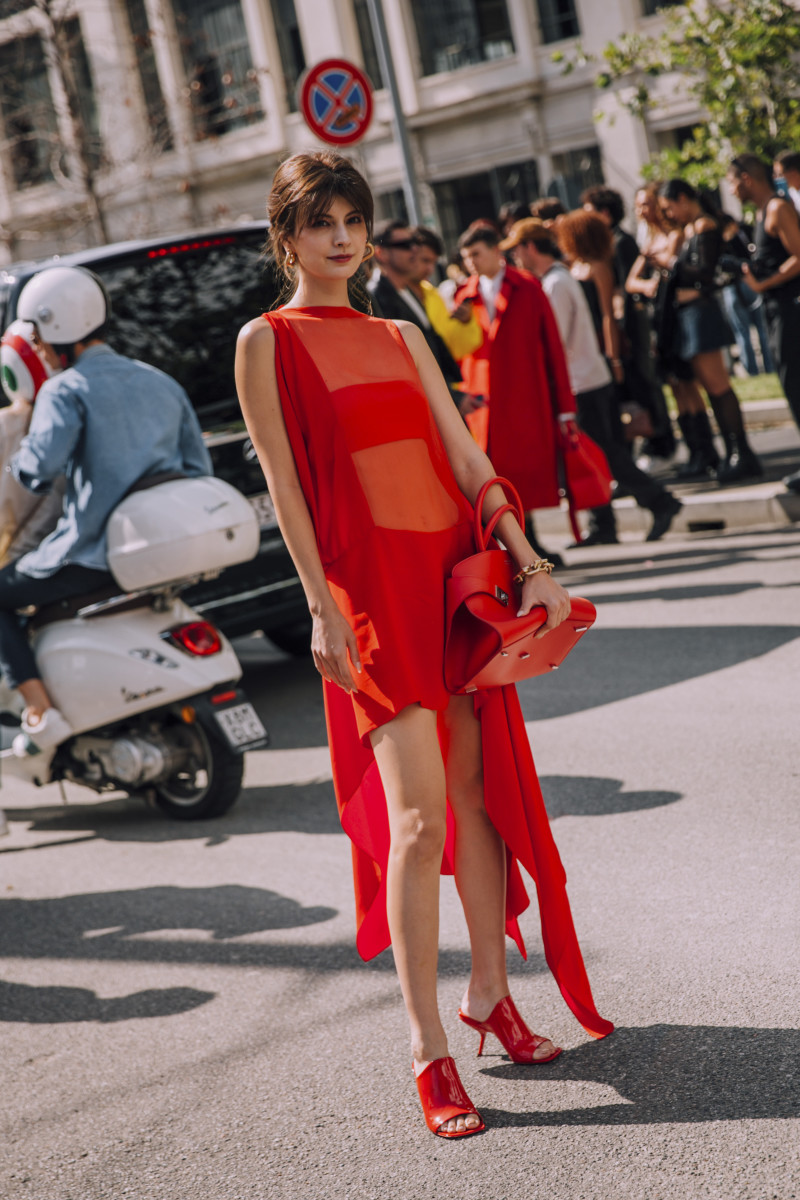motor bike: (1, 472, 261, 836)
person: (240, 157, 563, 1131), (1, 226, 202, 765), (447, 196, 579, 536), (724, 141, 800, 462)
